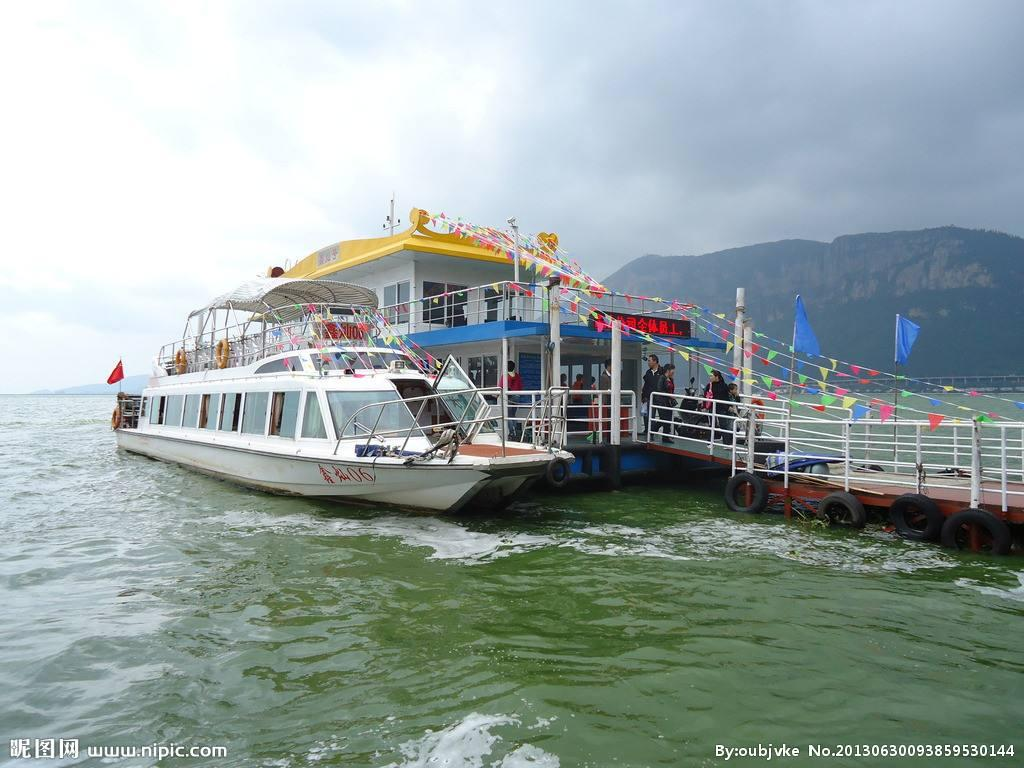yacht: (93, 276, 585, 519)
